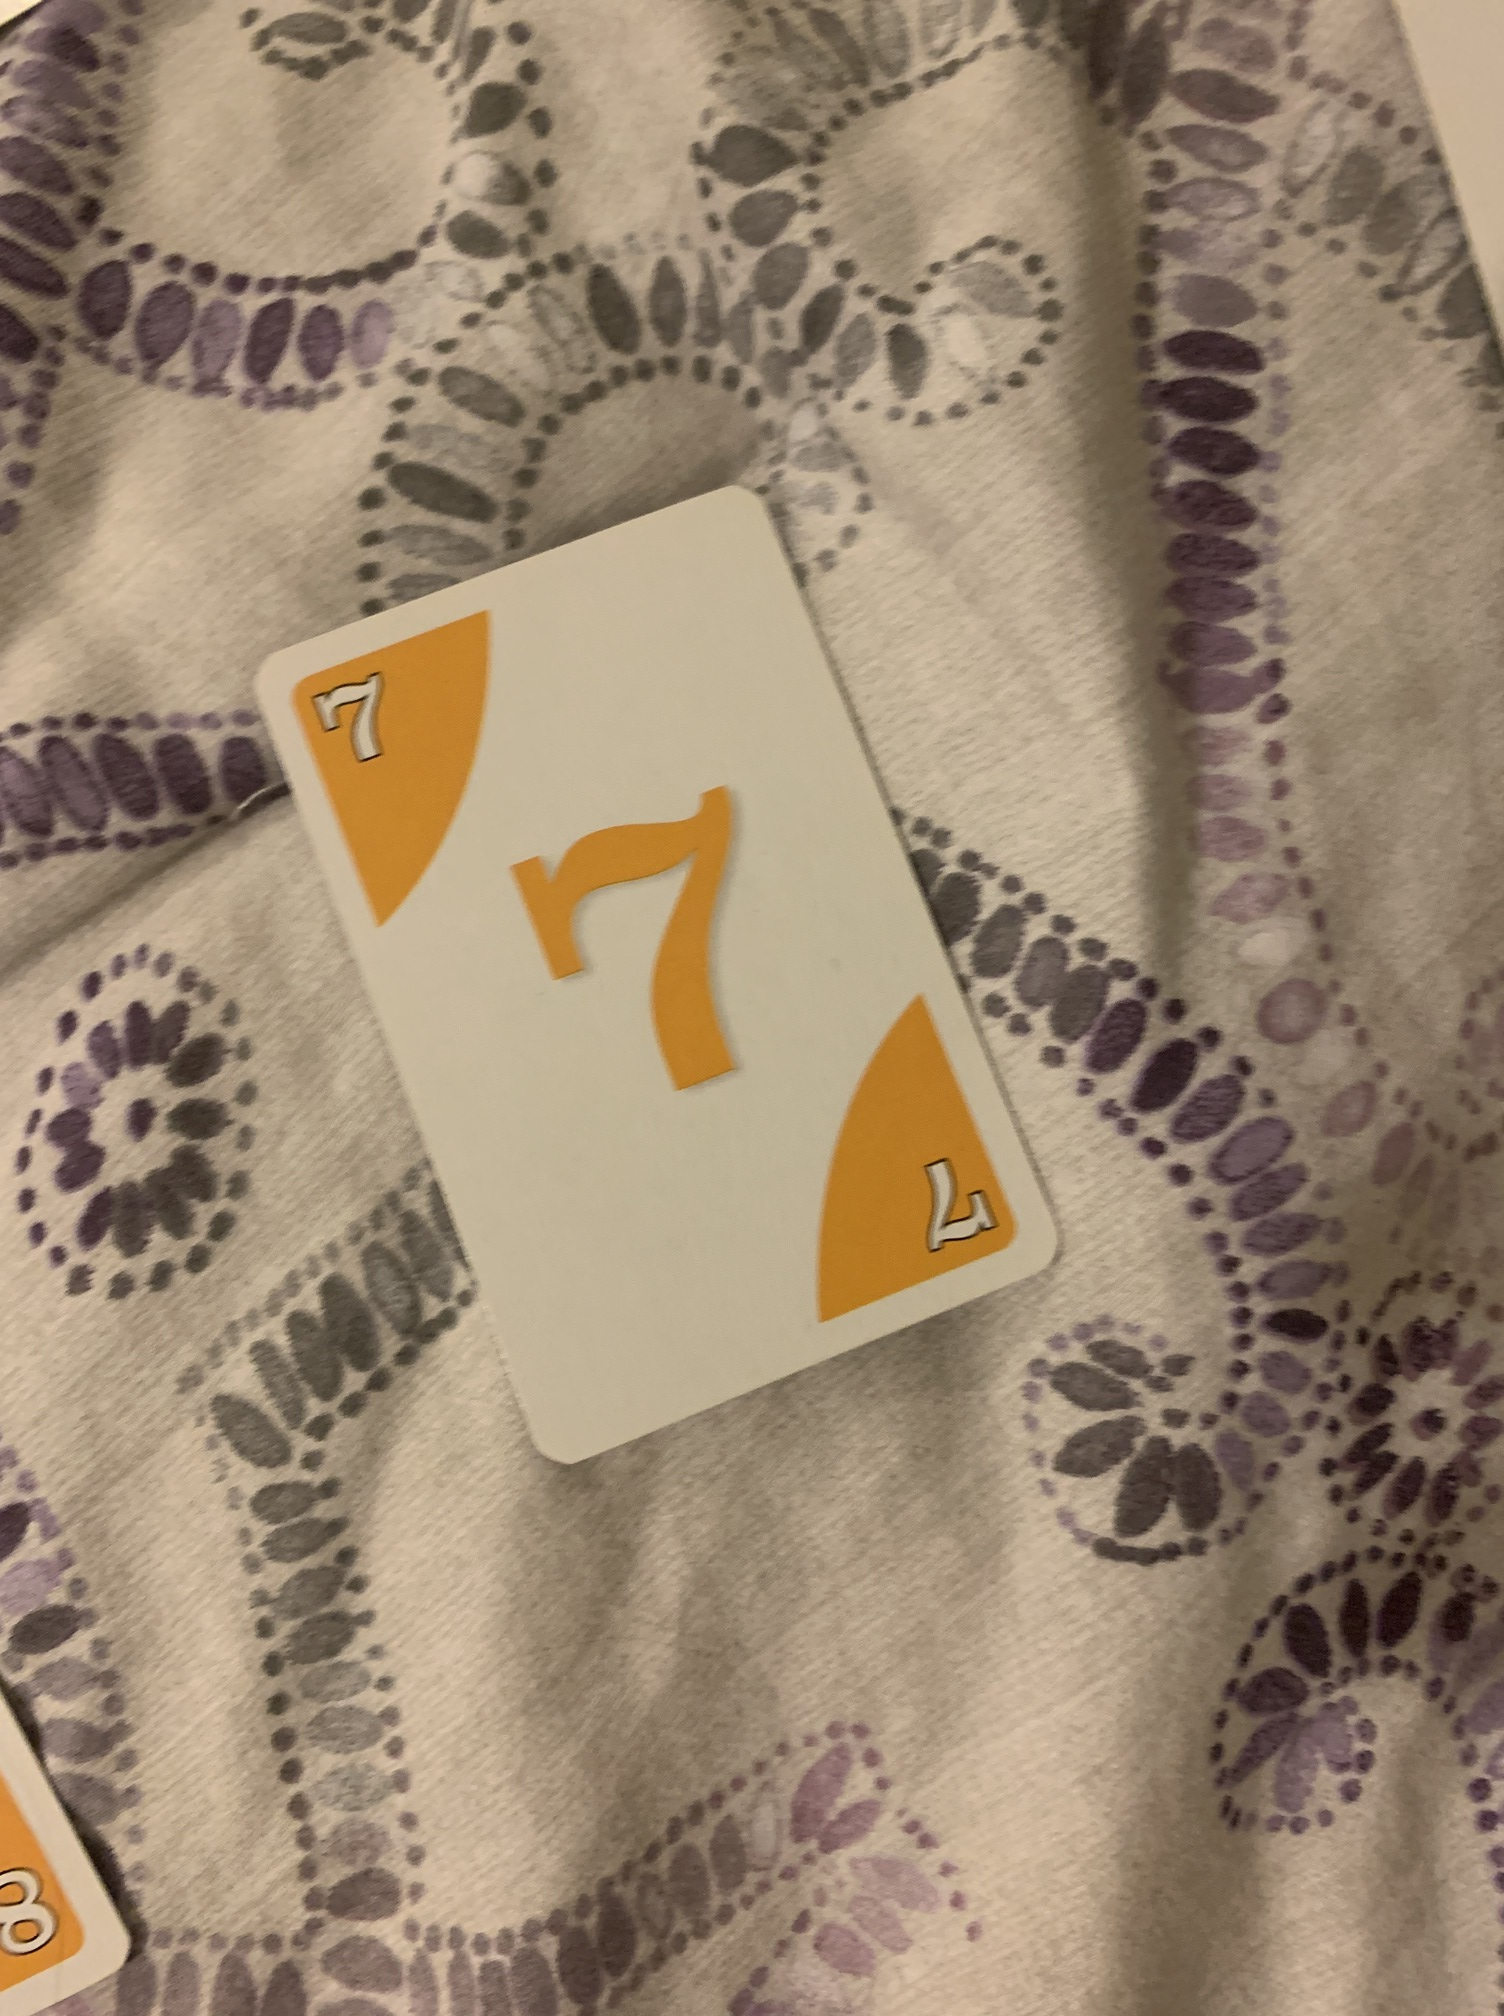seven: (254, 487, 1077, 1477)
